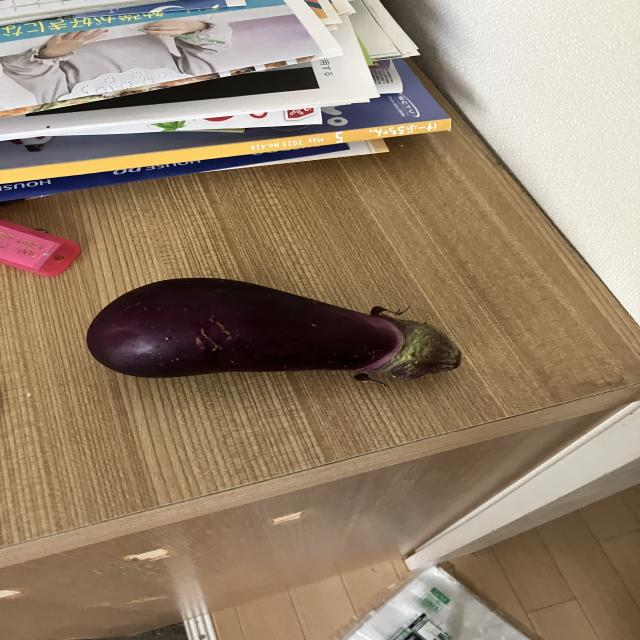eggplant: (80, 274, 464, 390)
